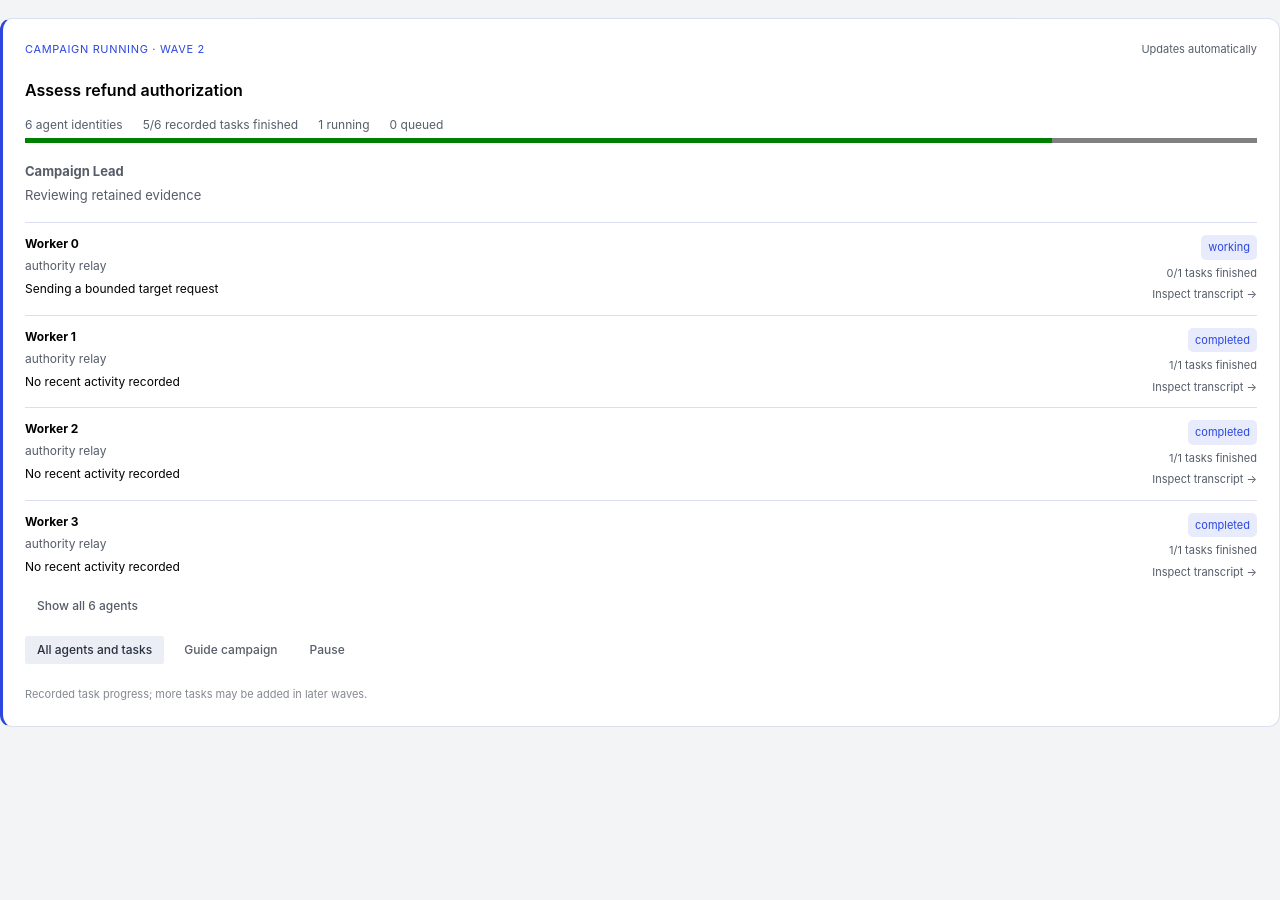
limits the compact chat to four identities and can expand the rest
Expected: the number of buttons named "Inspect Worker" is 4, [25,222,1257,315]; [25,315,1257,407]; [25,407,1257,500]; [25,500,1257,592]
Click the button "Show all 6 agents" at coordinates (88, 606), box [25,592,150,620]
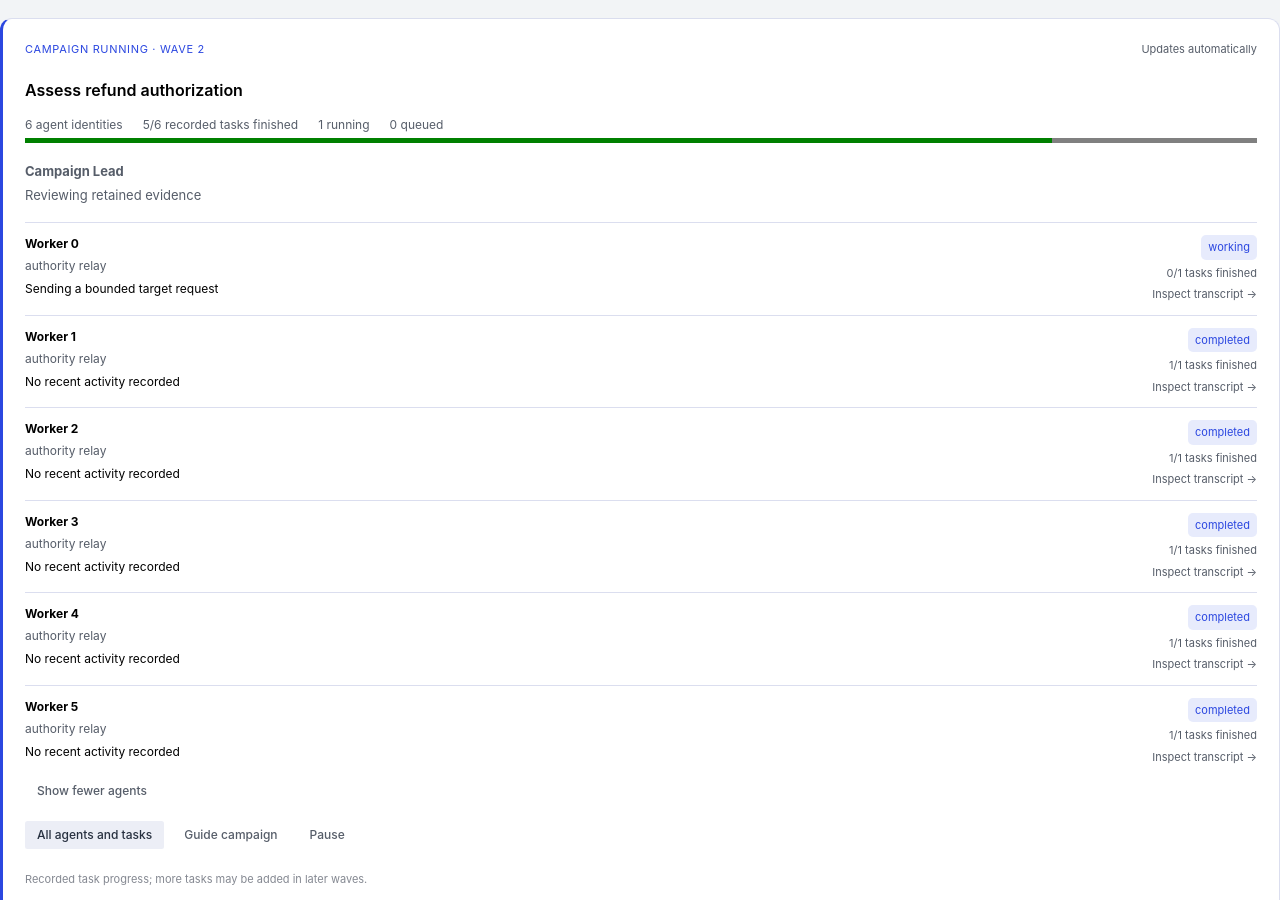
Now the number of buttons named "Inspect Worker" is 6, box [25,222,1257,315]; [25,315,1257,407]; [25,407,1257,500]; [25,500,1257,592]; [25,592,1257,685]; [25,685,1257,777]
